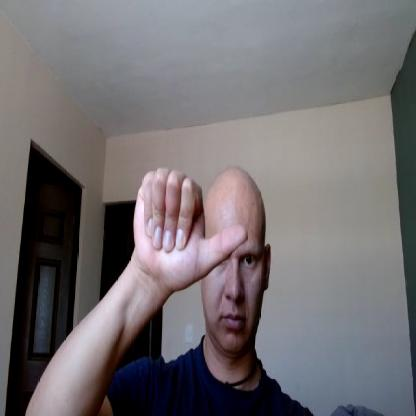A: (136, 167, 248, 292)
